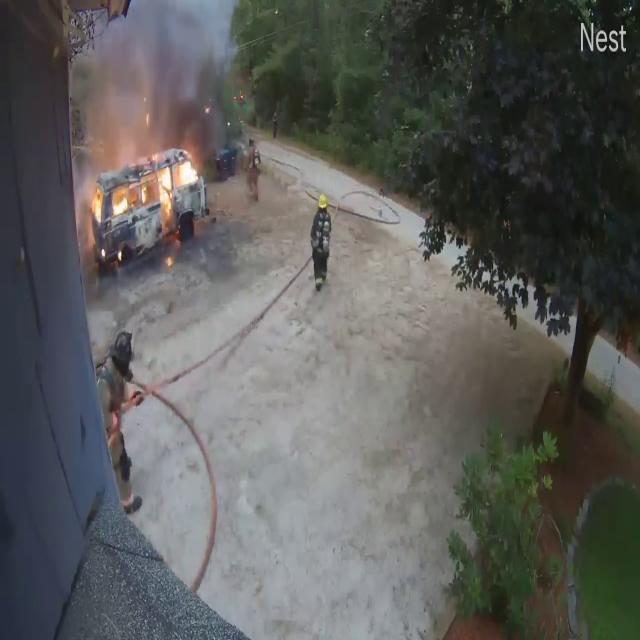Fire: (92, 149, 202, 227)
Smoke: (80, 0, 238, 166)
